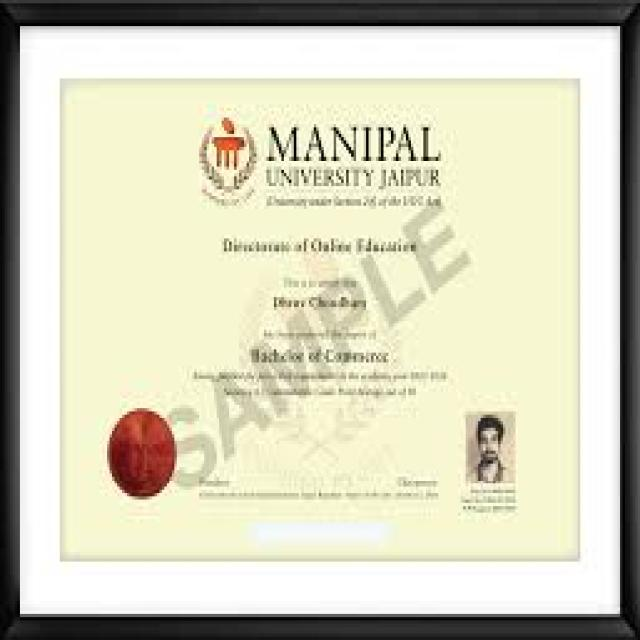stamp: (107, 407, 177, 503)
